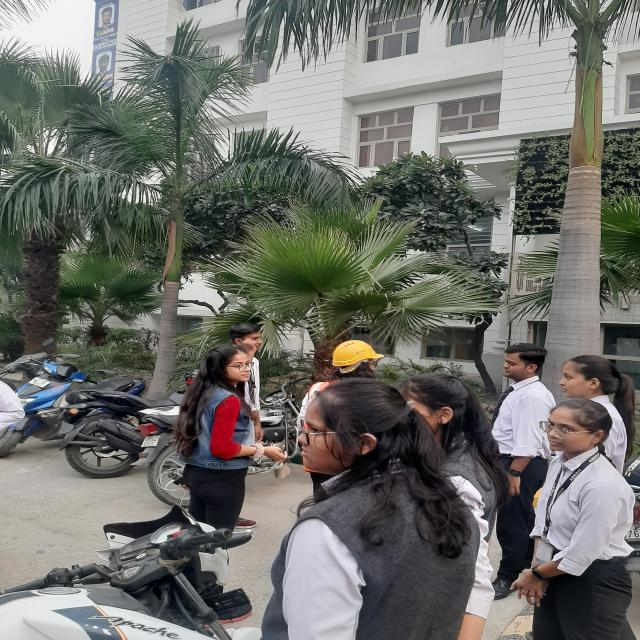unsafe: (275, 377, 493, 640), (530, 397, 637, 640), (172, 346, 260, 536), (494, 341, 540, 599)
